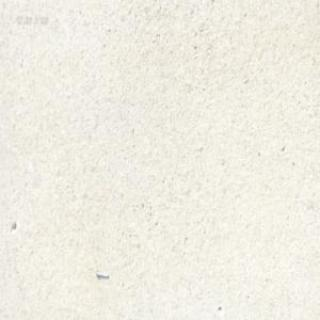Nailtrack_idkeyframe: (94, 267, 110, 278)
